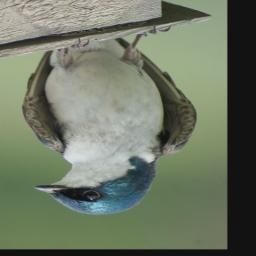Swallow: (20, 24, 197, 217)
